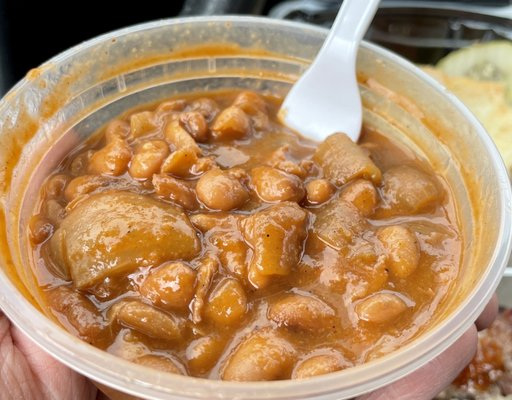salad: (277, 1, 380, 145)
sushi: (2, 16, 504, 393)
